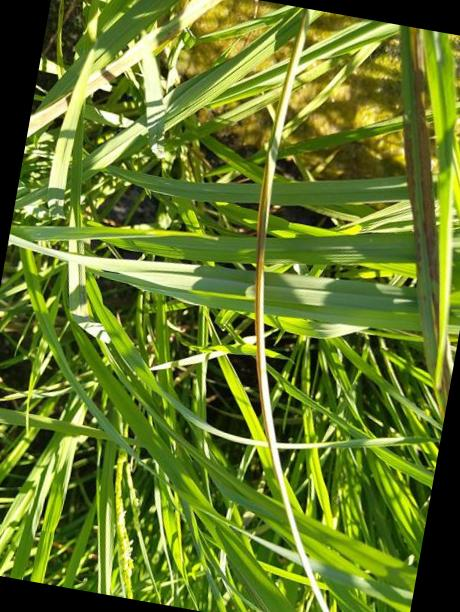Leaf Blight: (255, 8, 335, 612)
Leaf Streak: (400, 25, 440, 378), (441, 336, 453, 421)
